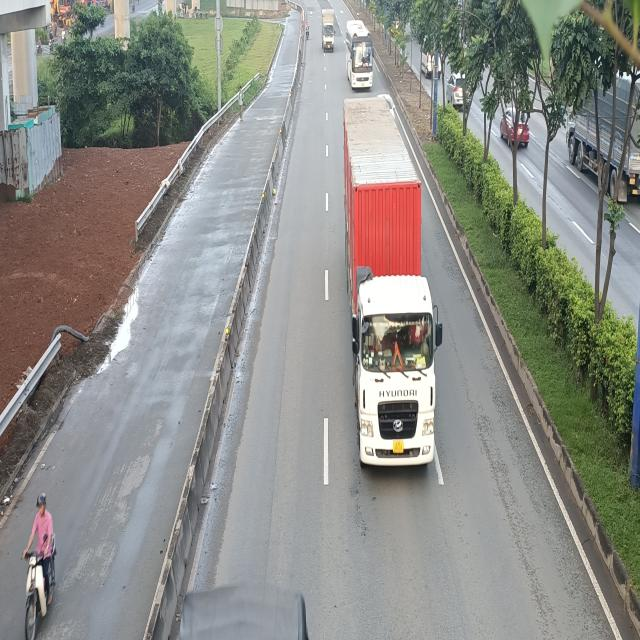coach: (346, 22, 376, 92)
container: (348, 99, 450, 474)
truck: (321, 10, 335, 52)
